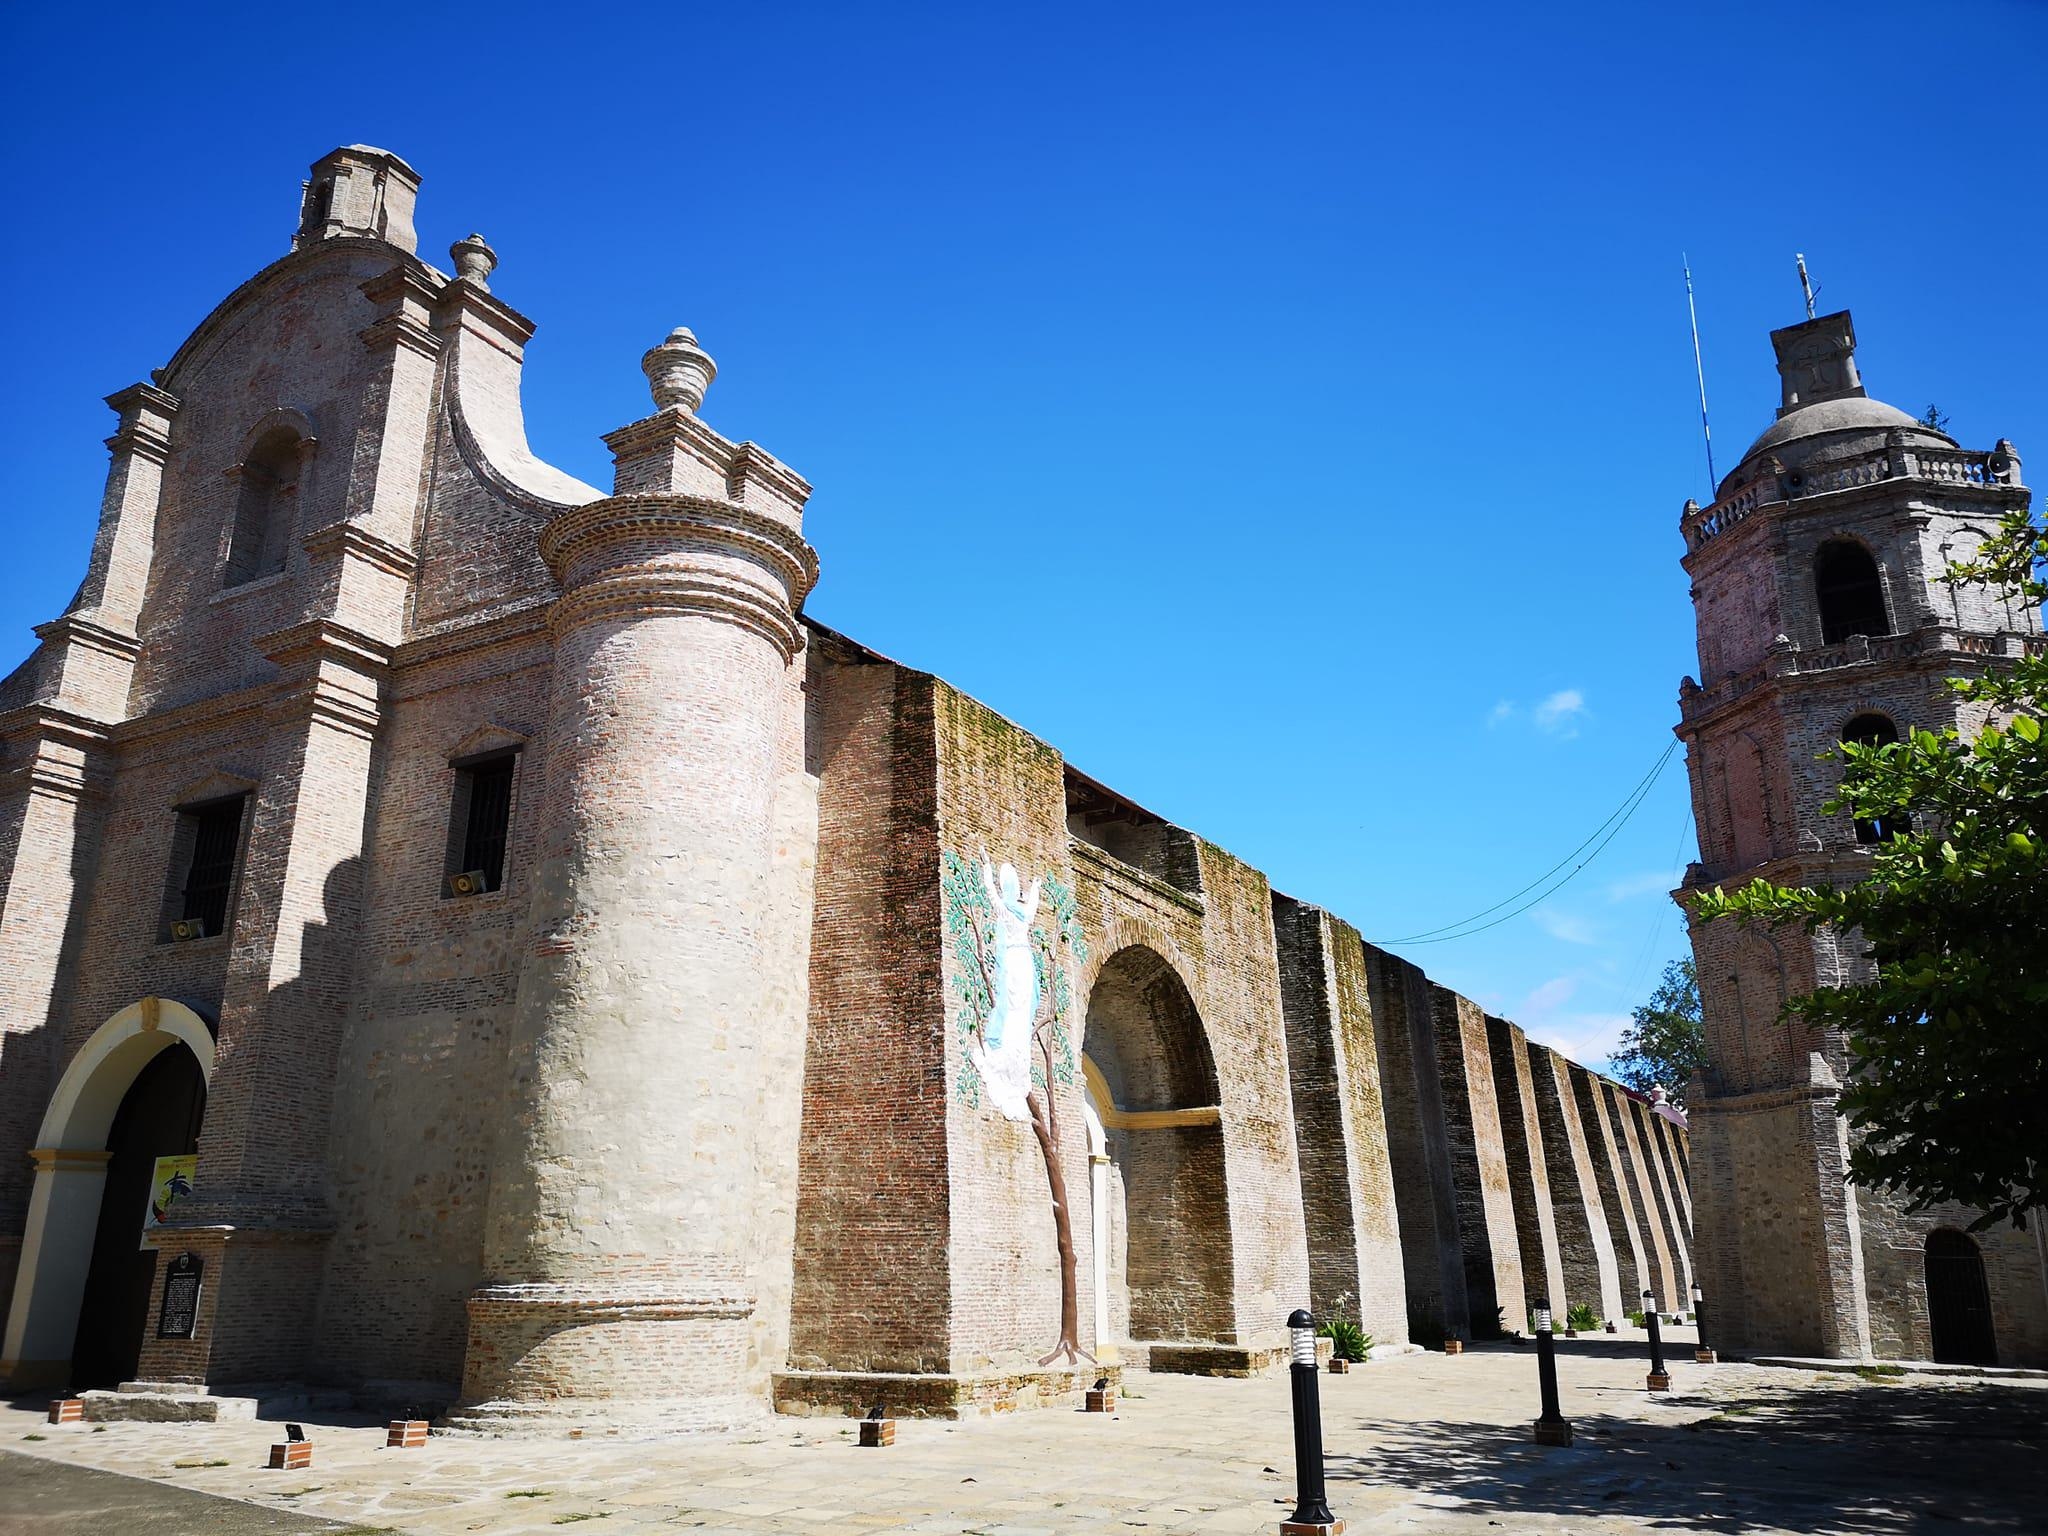Environmental Damage: (926, 691, 1072, 784)
Sta. Maria Church: (11, 150, 821, 1438)
